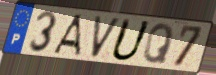3: (28, 10, 59, 55)
7: (173, 23, 206, 69)
A: (51, 13, 84, 58)
Q: (141, 22, 176, 66)
U: (108, 17, 153, 63)
V: (90, 15, 122, 61)
